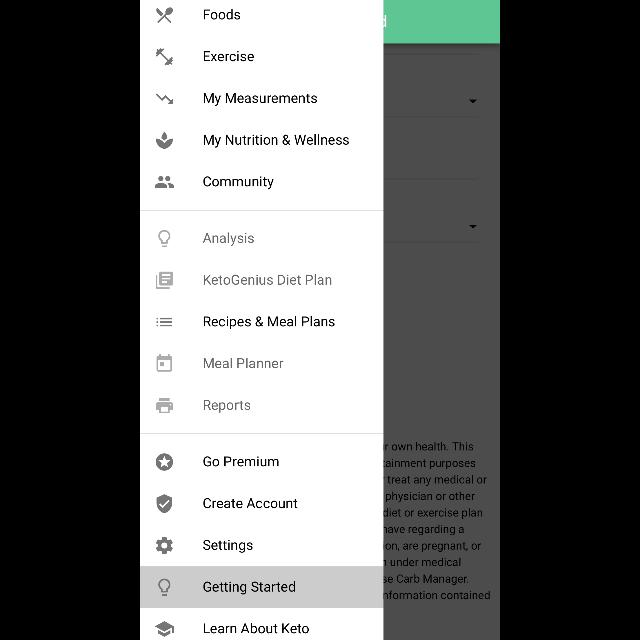icon: (156, 538, 174, 554), (156, 354, 172, 372), (156, 272, 174, 288), (156, 454, 172, 471), (156, 176, 174, 188), (156, 94, 174, 105), (157, 318, 173, 327)
image: (156, 132, 174, 150), (157, 494, 173, 514), (156, 49, 174, 66), (156, 621, 174, 637), (156, 398, 174, 414), (156, 7, 174, 23), (159, 578, 171, 596), (159, 230, 171, 248)
panel: (140, 1, 384, 640)
text: (204, 134, 350, 148), (203, 316, 334, 329), (204, 274, 332, 286), (205, 94, 318, 106), (204, 622, 310, 634), (203, 582, 295, 594), (203, 498, 297, 508), (204, 177, 274, 190), (204, 358, 284, 368), (204, 457, 278, 467), (203, 232, 254, 245), (204, 540, 252, 552), (204, 400, 250, 412), (204, 52, 254, 62), (204, 10, 240, 20)
